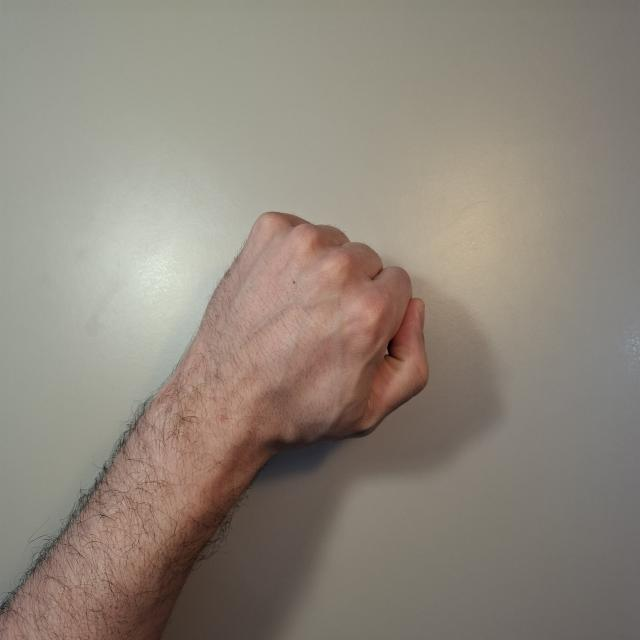glove_off: (198, 210, 432, 458)
